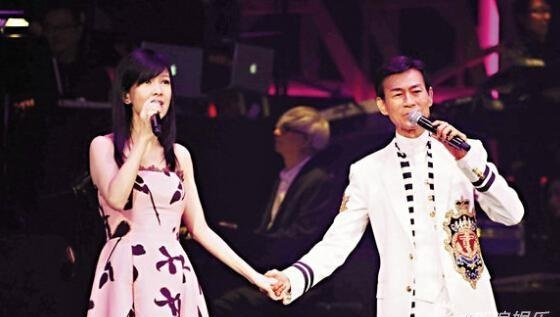Mask: (385, 84, 431, 130)
